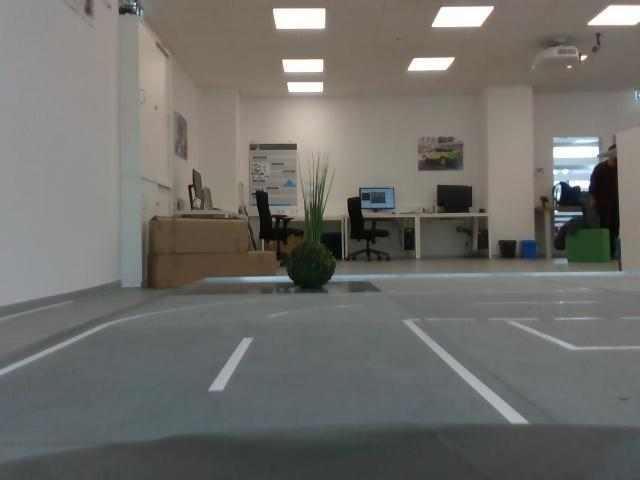potted plant: (298, 152, 335, 242), (283, 241, 338, 292)
